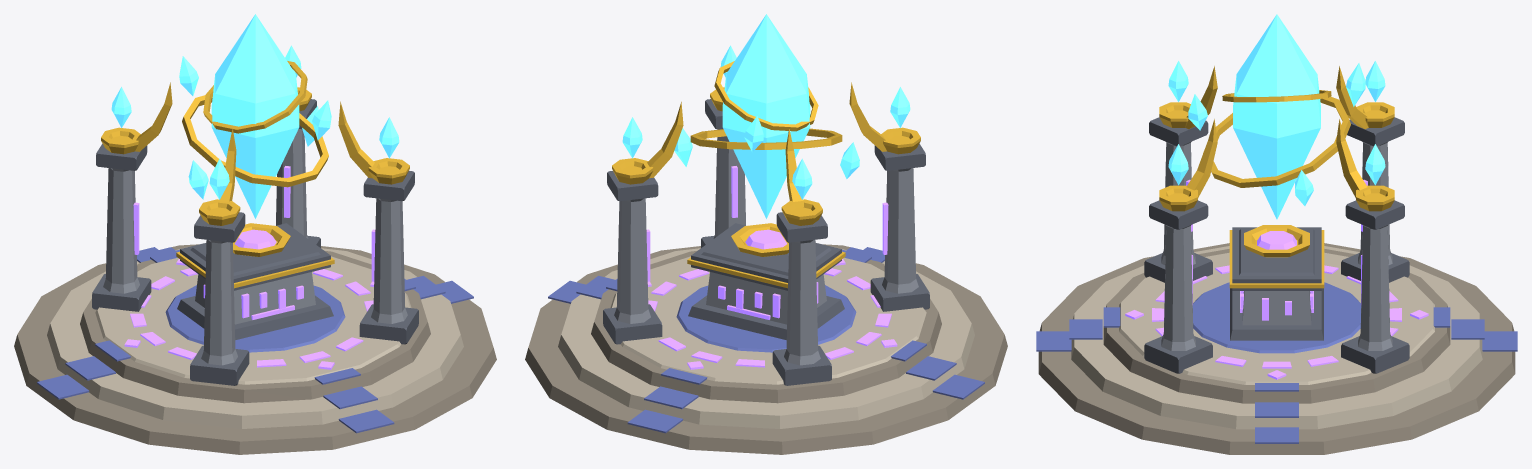
The model's file is Hub_RebirthAltar.fbx.
3 views of the same model, side by side, from view 1: azimuth 30°, elevation 25°; view 2: azimuth 150°, elevation 25°; view 3: azimuth 270°, elevation 25° (orthographic).
Visible parts, largest first — view 1: Hub_RebirthAltar__Hub_Plaza, Hub_RebirthAltar__Hub_PlazaDark, Hub_RebirthAltar__Common_Stone, Hub_RebirthAltar__Neon_Common_Diamond, Hub_RebirthAltar__Common_StoneDark, Hub_RebirthAltar__Common_Gold, Hub_RebirthAltar__Common_StoneBlue, Hub_RebirthAltar__Neon_Hub_Portal; view 2: Hub_RebirthAltar__Hub_Plaza, Hub_RebirthAltar__Hub_PlazaDark, Hub_RebirthAltar__Common_Stone, Hub_RebirthAltar__Common_StoneDark, Hub_RebirthAltar__Neon_Common_Diamond, Hub_RebirthAltar__Common_Gold, Hub_RebirthAltar__Common_StoneBlue, Hub_RebirthAltar__Neon_Hub_Portal; view 3: Hub_RebirthAltar__Hub_PlazaDark, Hub_RebirthAltar__Hub_Plaza, Hub_RebirthAltar__Common_StoneDark, Hub_RebirthAltar__Neon_Common_Diamond, Hub_RebirthAltar__Common_Gold, Hub_RebirthAltar__Common_Stone, Hub_RebirthAltar__Common_StoneBlue, Hub_RebirthAltar__Neon_Hub_Portal.
Boxes of the visible parts, left/top/right/bottom form: Hub_RebirthAltar__Hub_Plaza: left=47, top=247, right=463, bottom=428; Hub_RebirthAltar__Hub_PlazaDark: left=14, top=244, right=496, bottom=454; Hub_RebirthAltar__Common_Stone: left=103, top=129, right=407, bottom=365; Hub_RebirthAltar__Neon_Common_Diamond: left=111, top=14, right=399, bottom=218; Hub_RebirthAltar__Common_StoneDark: left=92, top=99, right=418, bottom=385; Hub_RebirthAltar__Common_Gold: left=101, top=61, right=409, bottom=288; Hub_RebirthAltar__Common_StoneBlue: left=37, top=247, right=473, bottom=433; Hub_RebirthAltar__Neon_Hub_Portal: left=124, top=166, right=375, bottom=369; Hub_RebirthAltar__Hub_Plaza: left=558, top=247, right=974, bottom=428; Hub_RebirthAltar__Hub_PlazaDark: left=525, top=244, right=1007, bottom=454; Hub_RebirthAltar__Common_Stone: left=614, top=129, right=918, bottom=365; Hub_RebirthAltar__Common_StoneDark: left=603, top=99, right=929, bottom=385; Hub_RebirthAltar__Neon_Common_Diamond: left=622, top=14, right=910, bottom=218; Hub_RebirthAltar__Common_Gold: left=612, top=61, right=920, bottom=288; Hub_RebirthAltar__Common_StoneBlue: left=548, top=247, right=984, bottom=433; Hub_RebirthAltar__Neon_Hub_Portal: left=646, top=166, right=897, bottom=369; Hub_RebirthAltar__Hub_PlazaDark: left=1038, top=243, right=1515, bottom=454; Hub_RebirthAltar__Hub_Plaza: left=1071, top=246, right=1482, bottom=429; Hub_RebirthAltar__Common_StoneDark: left=1144, top=117, right=1409, bottom=373; Hub_RebirthAltar__Neon_Common_Diamond: left=1168, top=14, right=1385, bottom=219; Hub_RebirthAltar__Common_Gold: left=1159, top=66, right=1394, bottom=288; Hub_RebirthAltar__Common_Stone: left=1161, top=141, right=1392, bottom=350; Hub_RebirthAltar__Common_StoneBlue: left=1036, top=282, right=1517, bottom=443; Hub_RebirthAltar__Neon_Hub_Portal: left=1125, top=179, right=1428, bottom=379.
Bounding box in the file's own units: 43.6 × 34 × 43.6.
